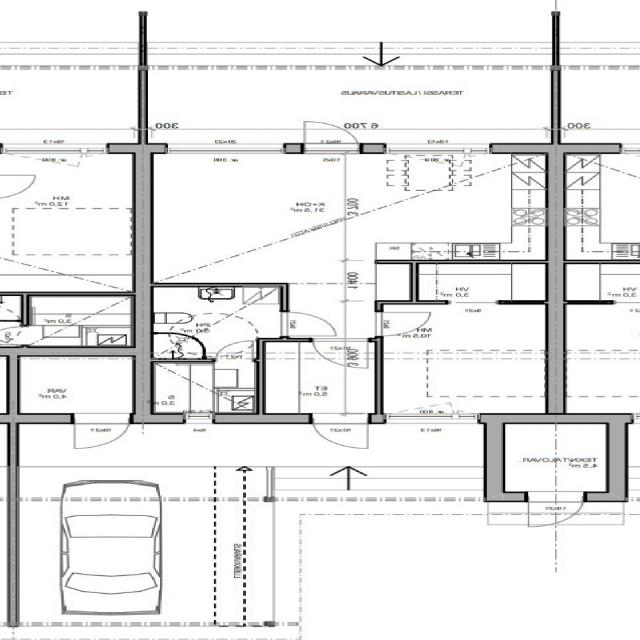door: (305, 117, 359, 154), (529, 491, 583, 528), (76, 413, 129, 450), (314, 414, 368, 450), (314, 338, 368, 368), (374, 312, 432, 336), (280, 312, 336, 335), (216, 340, 253, 363)
